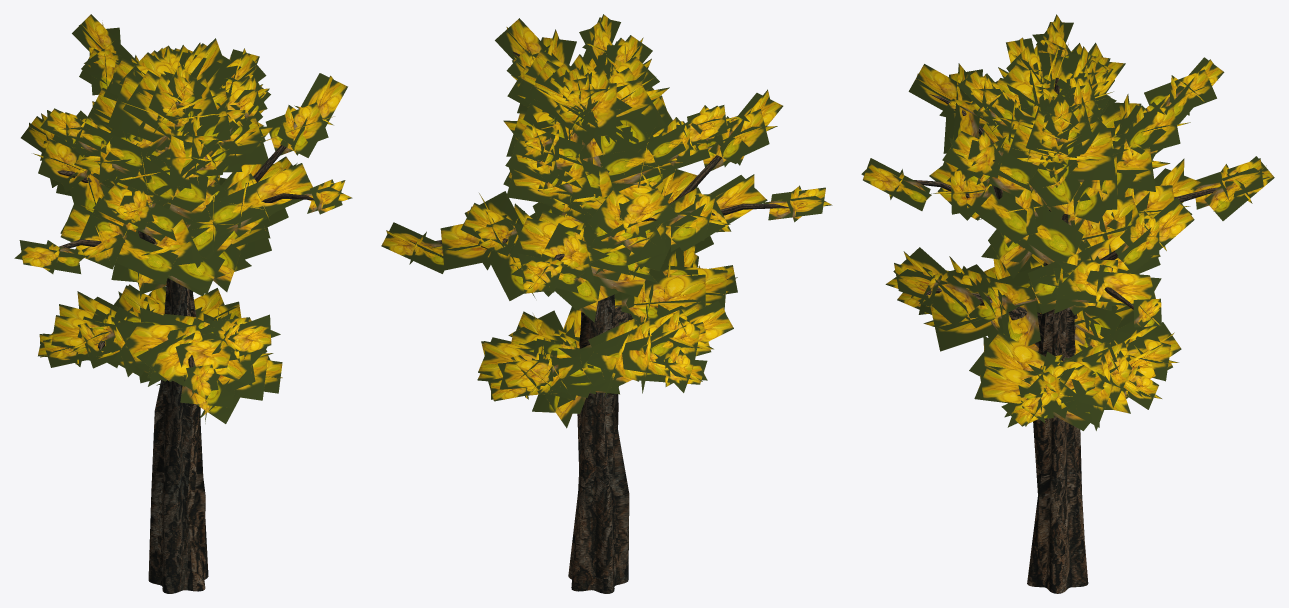
The model's file is arvore_folha_verde_variante_2.fbx.
3 renders of one model, left to right at view 1: azimuth 30°, elevation 25°; view 2: azimuth 150°, elevation 25°; view 3: azimuth 270°, elevation 25°, orthographic.
Parts seen in each view (by area): view 1: branch07_1, clay-banks-4u629vfd3vi-unsplash_0; view 2: branch07_1, clay-banks-4u629vfd3vi-unsplash_0; view 3: branch07_1, clay-banks-4u629vfd3vi-unsplash_0.
Boxes of the visible parts, x1,y1,x2,y2 form: branch07_1: (14,14,352,423); clay-banks-4u629vfd3vi-unsplash_0: (57,145,313,593); branch07_1: (381,14,832,428); clay-banks-4u629vfd3vi-unsplash_0: (435,51,788,593); branch07_1: (861,14,1274,430); clay-banks-4u629vfd3vi-unsplash_0: (914,77,1218,593).
Size of the model in its own units: 525 by 744 by 521.
